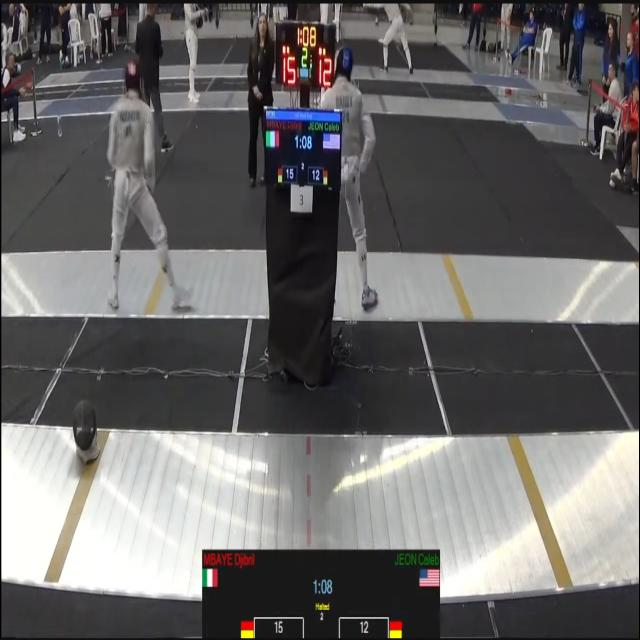overlayLeft: (204, 551, 310, 614)
overlayRight: (335, 551, 439, 616)
scoreLeft: (255, 618, 303, 640)
scoreRight: (341, 618, 387, 640)
